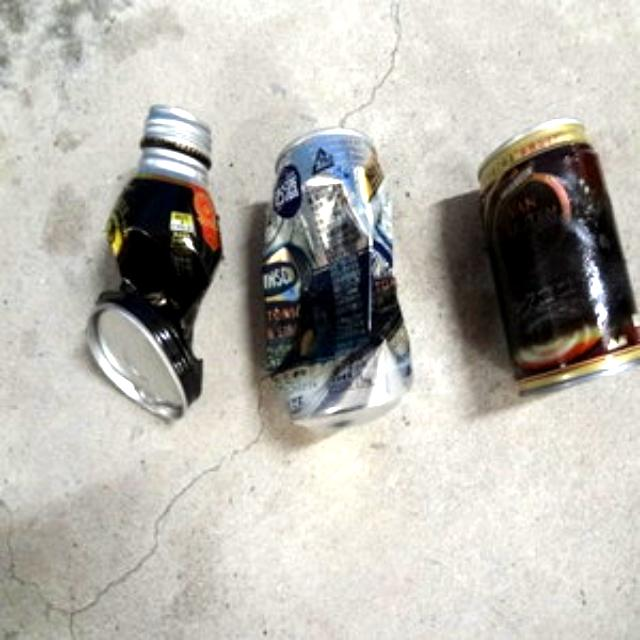Metal: (262, 125, 416, 431), (473, 116, 639, 398), (87, 98, 219, 420)
